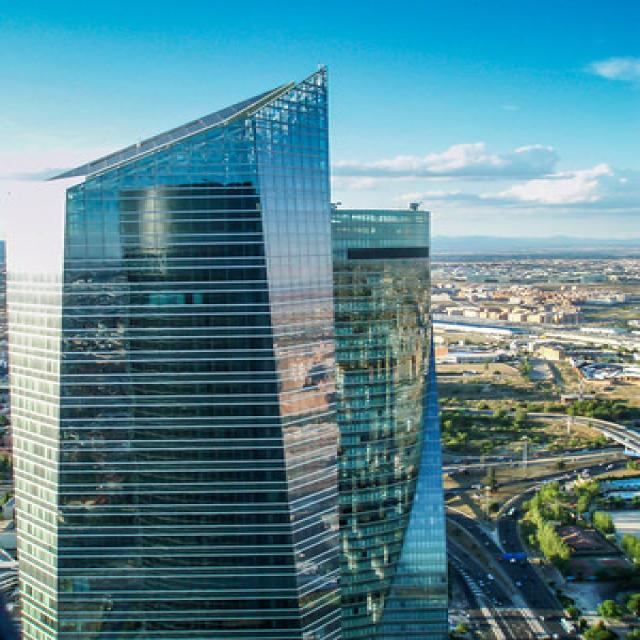Normal_building: (6, 62, 348, 640)
